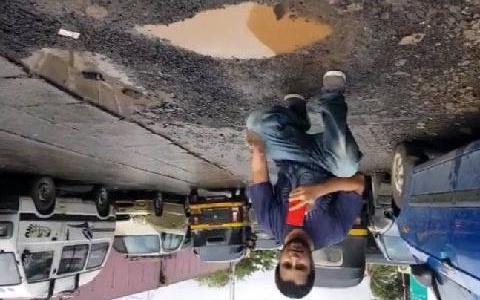pothole: (132, 1, 336, 64), (16, 48, 167, 120)
